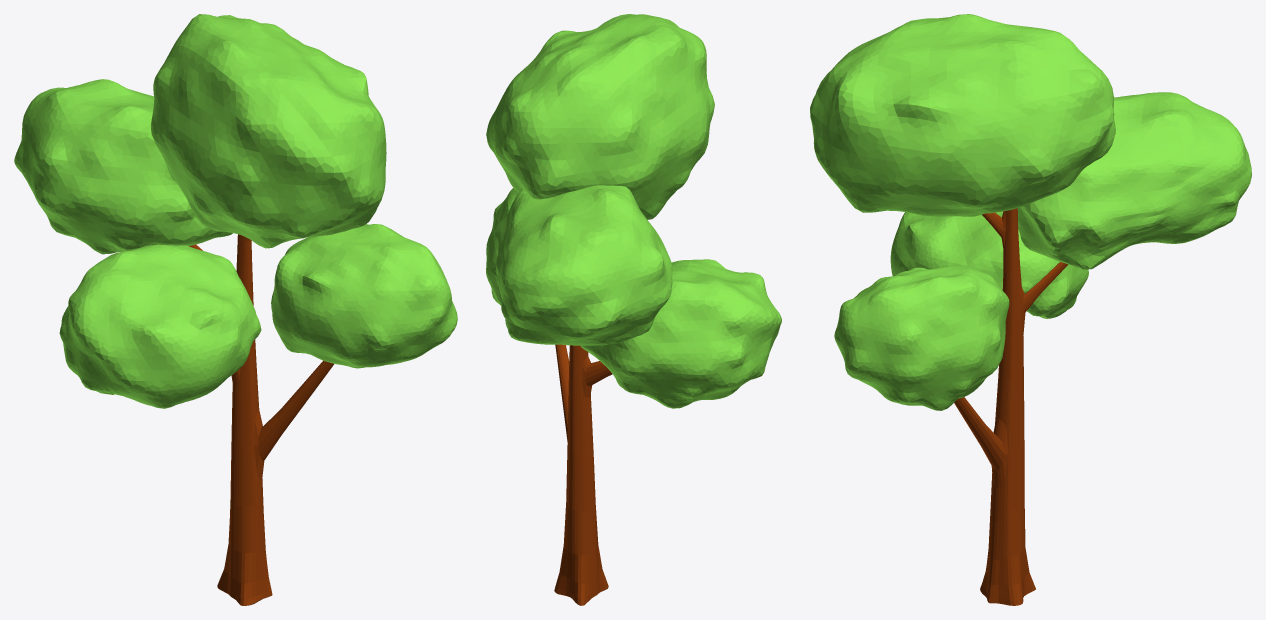
The model's file is tree3branch.fbx.
3 views of the same model, side by side, from view 1: azimuth 30°, elevation 25°; view 2: azimuth 150°, elevation 25°; view 3: azimuth 270°, elevation 25° (orthographic). The views are drawn at different scales.
Visible parts, largest first — view 1: Icosphere.013, Icosphere.016, Icosphere.015, Icosphere.014, Cube.003; view 2: Icosphere.013, Icosphere.015, Icosphere.016, Cube.003, Icosphere.014; view 3: Icosphere.013, Icosphere.015, Icosphere.014, Cube.003, Icosphere.016.
Part boxes in pixels (x1=…): Icosphere.013: x1=151, y1=14, x2=386, y2=248; Icosphere.016: x1=59, y1=244, x2=261, y2=408; Icosphere.015: x1=14, y1=79, x2=232, y2=254; Icosphere.014: x1=271, y1=224, x2=457, y2=368; Cube.003: x1=189, y1=234, x2=333, y2=605; Icosphere.013: x1=486, y1=14, x2=714, y2=219; Icosphere.015: x1=493, y1=185, x2=672, y2=345; Icosphere.016: x1=580, y1=259, x2=781, y2=408; Cube.003: x1=554, y1=344, x2=612, y2=605; Icosphere.014: x1=486, y1=188, x2=518, y2=305; Icosphere.013: x1=810, y1=14, x2=1115, y2=216; Icosphere.015: x1=1017, y1=92, x2=1251, y2=269; Icosphere.014: x1=834, y1=266, x2=1009, y2=410; Cube.003: x1=954, y1=208, x2=1068, y2=605; Icosphere.016: x1=890, y1=211, x2=1088, y2=318.
Bounding box in the file's own units: 1874 × 3152 × 2238.
